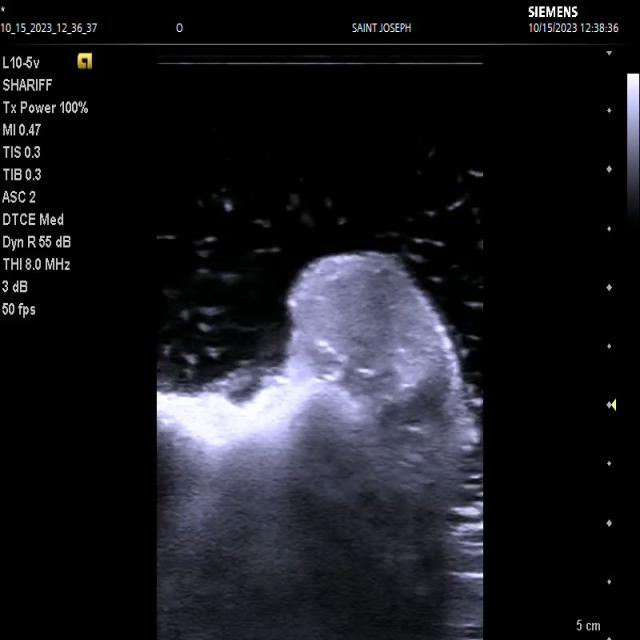tissue: (157, 253, 482, 640)
